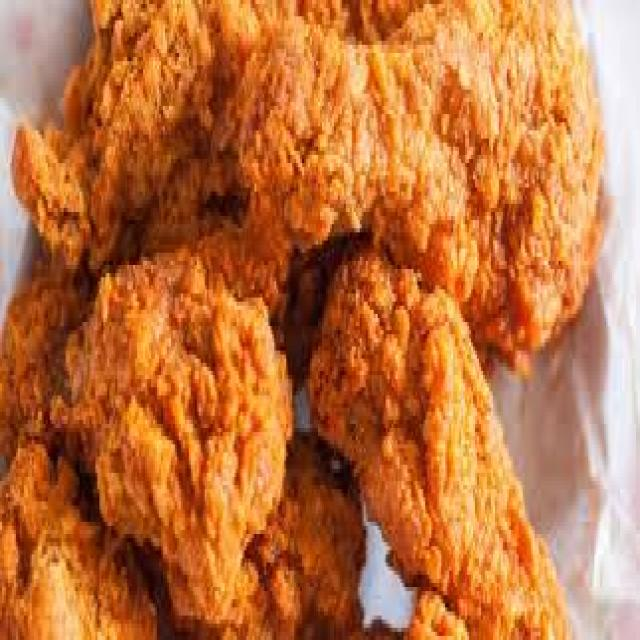Frango: (264, 12, 608, 286), (328, 250, 504, 640), (31, 20, 247, 304), (90, 239, 280, 557), (0, 440, 147, 640), (245, 425, 364, 640), (0, 256, 117, 452)
